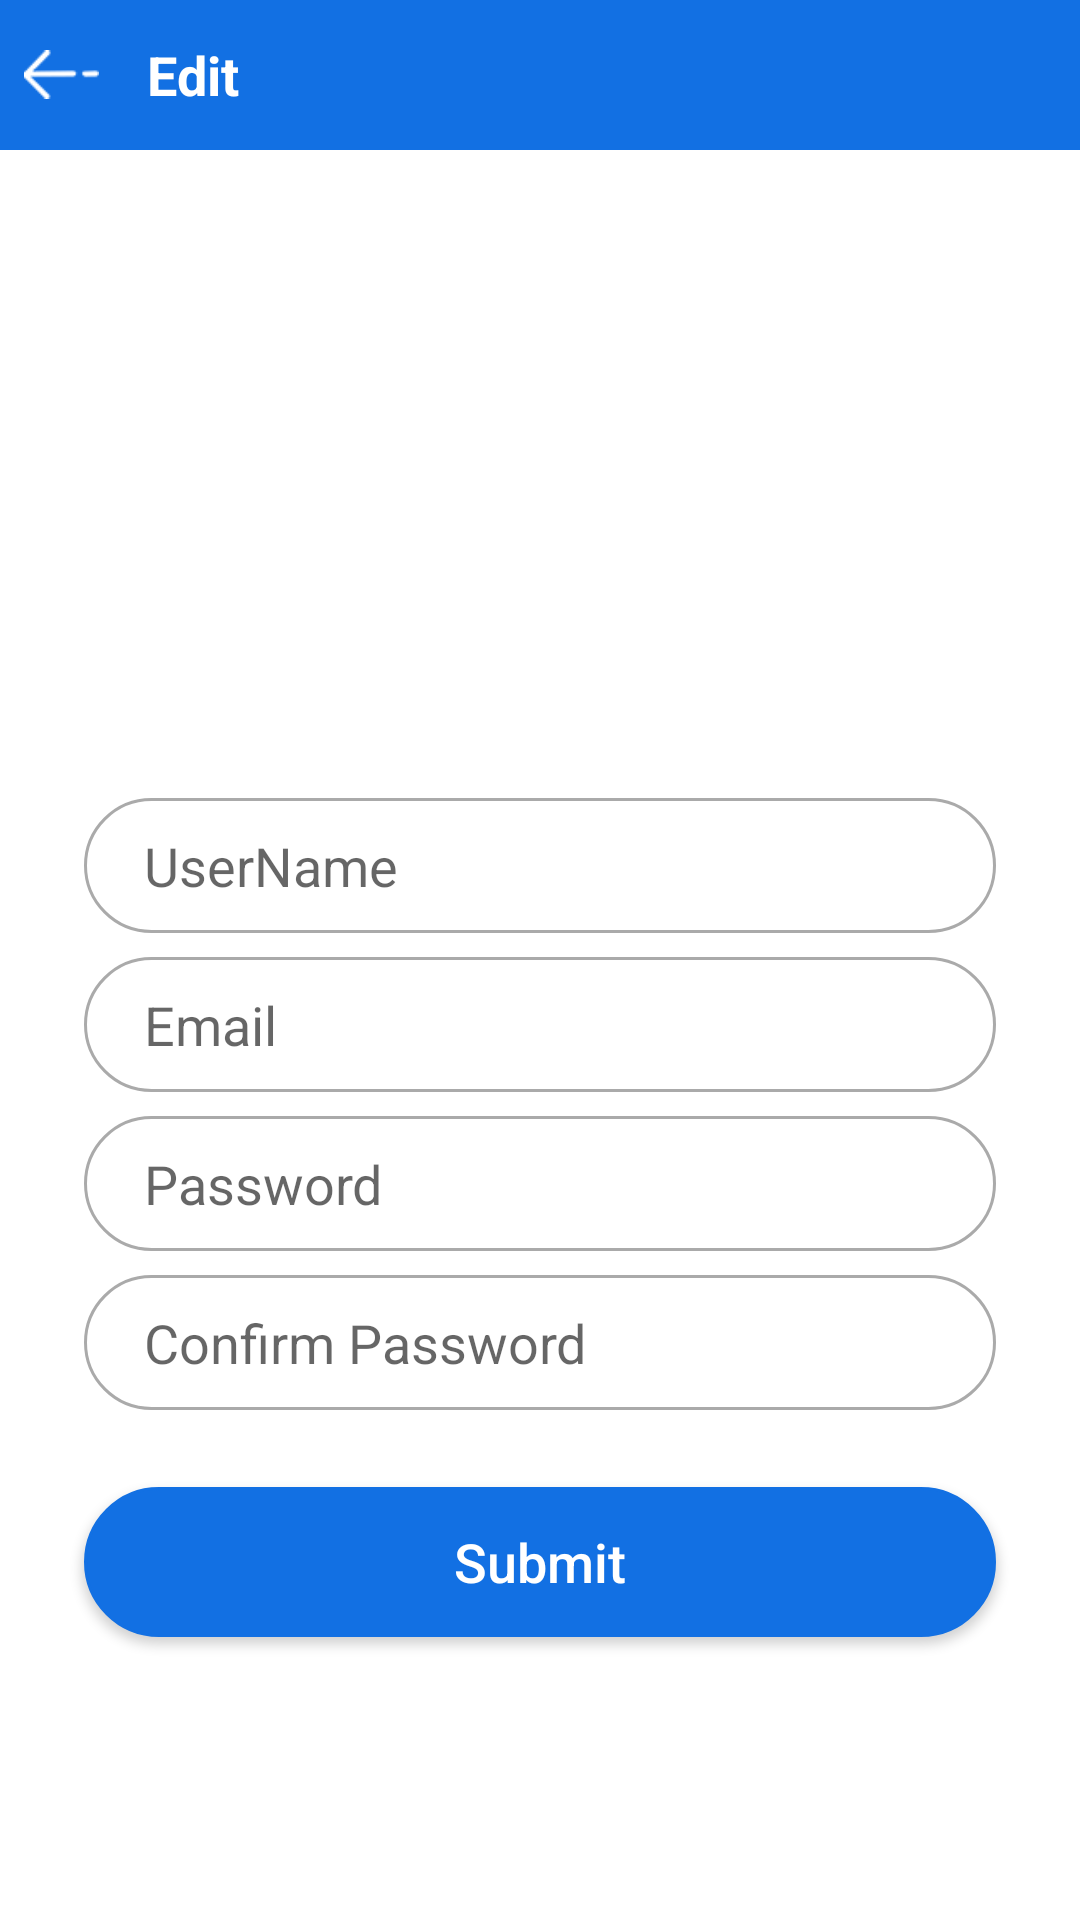

Where icons sit on this 1080px x 1920px app screen, as (x1, y1, x2, y2):
back: (24, 50, 99, 99)
